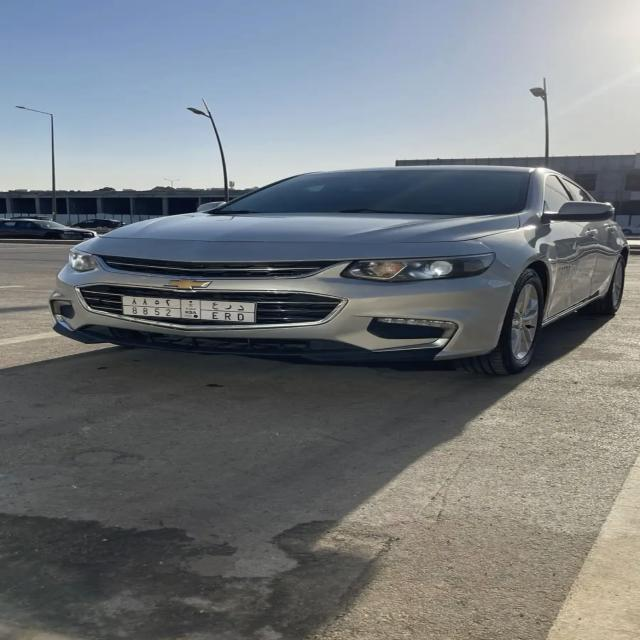license_plate: (121, 295, 256, 324)
